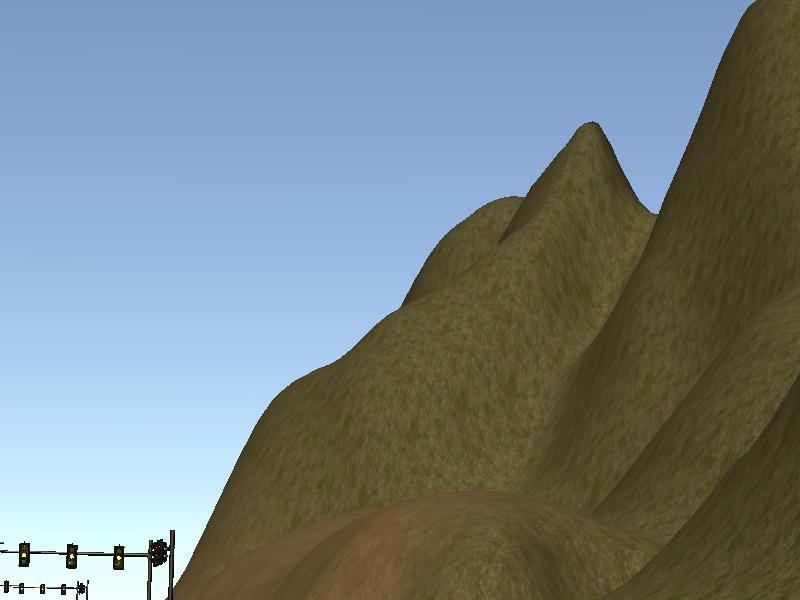yellow_light: (66, 544, 78, 568), (18, 543, 29, 565), (114, 546, 125, 568)
